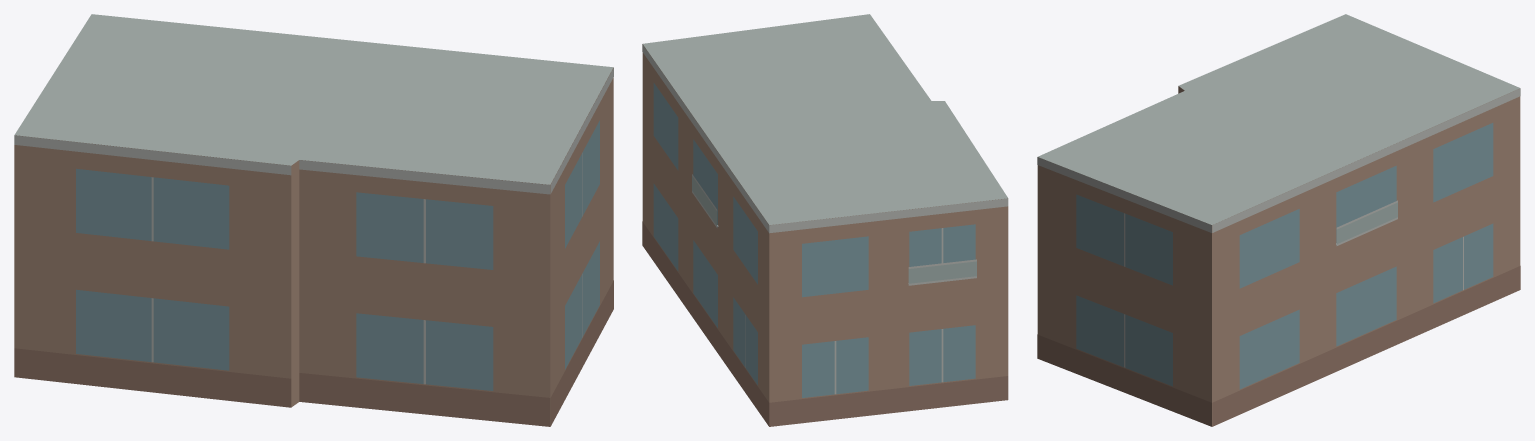
Rendered from survey-upis-32489719.glb.
The picture shows the model from 3 angles, left to right: view 1: azimuth 30°, elevation 25°; view 2: azimuth 150°, elevation 25°; view 3: azimuth 270°, elevation 25°; orthographic projection. The views are drawn at different scales.
Parts seen in each view (by area): view 1: survey-upis-32489719.tmp; view 2: survey-upis-32489719.tmp; view 3: survey-upis-32489719.tmp.
Part boxes in pixels (x1,y1,x2,y2): survey-upis-32489719.tmp: (14, 14, 613, 426); survey-upis-32489719.tmp: (642, 14, 1008, 426); survey-upis-32489719.tmp: (1037, 14, 1520, 426).
Size of the model in its own units: 13.7 by 6.1 by 13.25.
